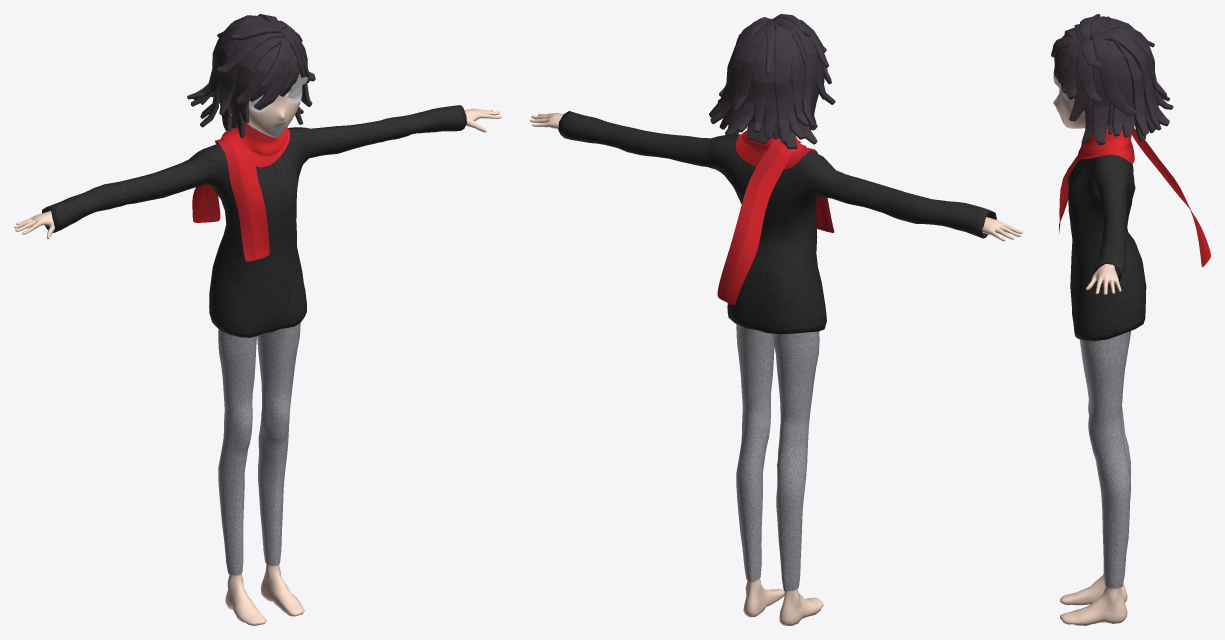
The model's file is Girl.obj.
3 renders of one model, left to right at view 1: azimuth 30°, elevation 25°; view 2: azimuth 150°, elevation 25°; view 3: azimuth 270°, elevation 25°, orthographic.
Visible parts, largest first — view 1: Top_pERSONAJE.004, bot_pERSONAJE.005, hair_Hair001.baked.001, scarf_Cube, body_pERSONAJE.002, Head_Hair001.baked.005; view 2: Top_pERSONAJE.004, bot_pERSONAJE.005, hair_Hair001.baked.001, scarf_Cube, body_pERSONAJE.002; view 3: Top_pERSONAJE.004, hair_Hair001.baked.001, bot_pERSONAJE.005, body_pERSONAJE.002, scarf_Cube, Head_Hair001.baked.005.
Part boxes in pixels (x1,y1,x2,y2): Top_pERSONAJE.004: (42, 105, 466, 337); bot_pERSONAJE.005: (218, 323, 300, 575); hair_Hair001.baked.001: (187, 14, 315, 137); scarf_Cube: (192, 122, 289, 261); body_pERSONAJE.002: (14, 108, 501, 625); Head_Hair001.baked.005: (248, 56, 302, 137); Top_pERSONAJE.004: (558, 111, 996, 334); bot_pERSONAJE.005: (736, 324, 819, 591); hair_Hair001.baked.001: (709, 14, 835, 148); scarf_Cube: (717, 130, 834, 304); body_pERSONAJE.002: (530, 113, 1022, 625); Top_pERSONAJE.004: (1068, 154, 1146, 341); hair_Hair001.baked.001: (1051, 14, 1173, 144); bot_pERSONAJE.005: (1079, 331, 1131, 588); body_pERSONAJE.002: (1060, 124, 1127, 625); scarf_Cube: (1059, 128, 1210, 267); Head_Hair001.baked.005: (1053, 83, 1085, 128).
Size of the model in its own units: 1.39 by 1.61 by 0.395.
Materials: 7 (6 with a texture image).
